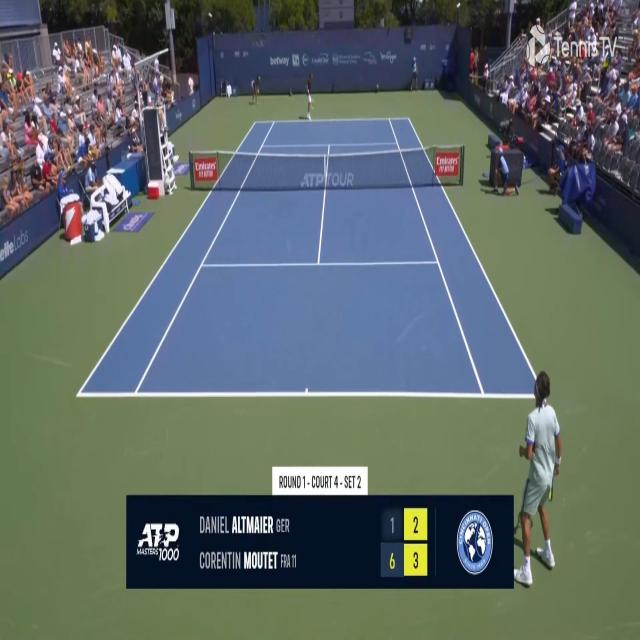tennis-player: (512, 372, 564, 587), (304, 72, 314, 122)
